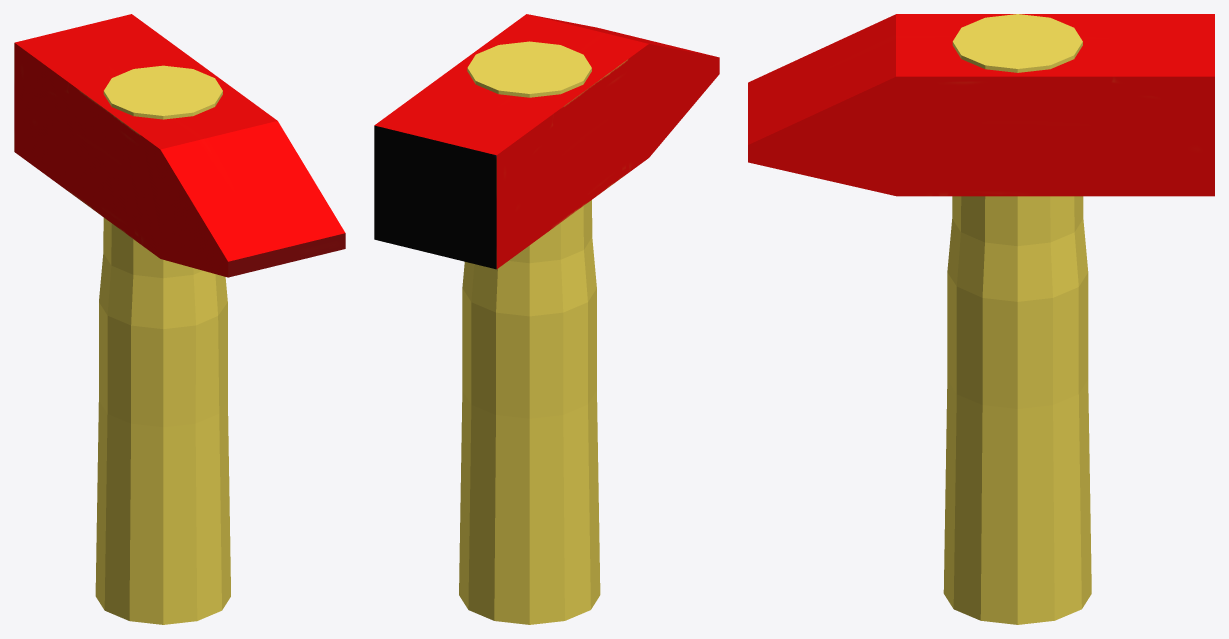
The model's file is treasure.fbx.
3 renders of one model, left to right at view 1: azimuth 30°, elevation 25°; view 2: azimuth 150°, elevation 25°; view 3: azimuth 270°, elevation 25°, orthographic. The views are drawn at different scales.
Visible parts, largest first — view 1: Circle; view 2: Circle; view 3: Circle.
Boxes of the visible parts, bbox=[...] form: Circle: bbox=[14, 14, 345, 624]; Circle: bbox=[374, 14, 719, 624]; Circle: bbox=[748, 14, 1214, 624].
Bounding box in the file's own units: 200 × 823 × 631.
Materials: 1 (1 with a texture image).
